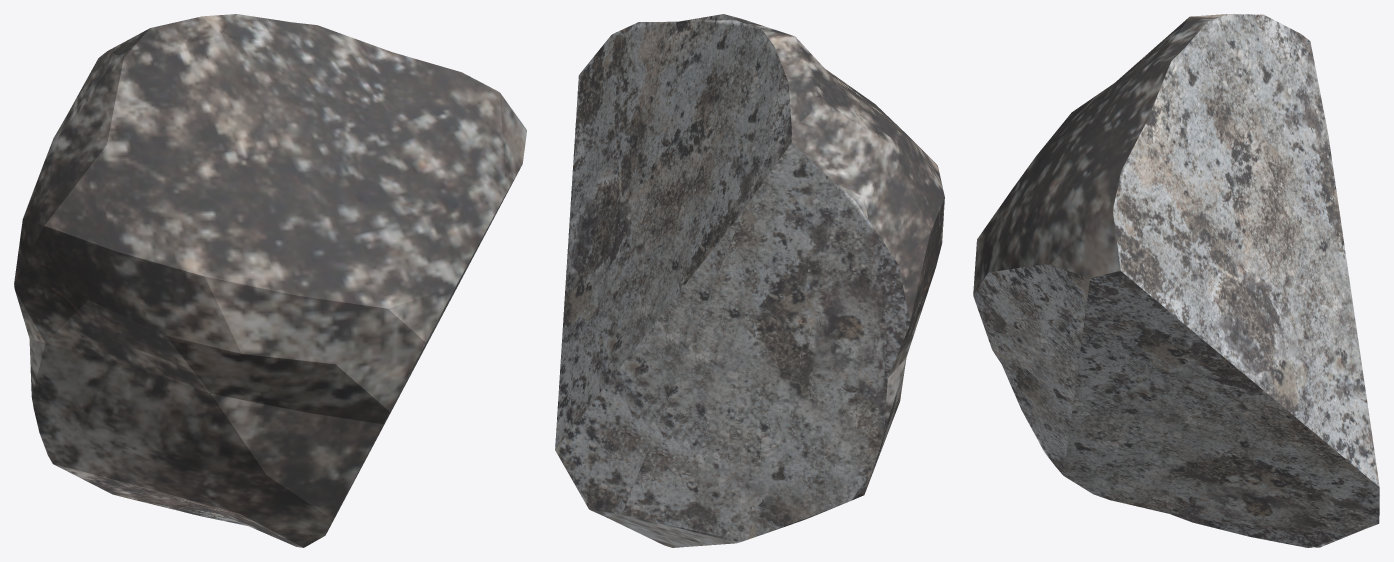
File: Asteroid_Medium_001_02_002.fbx
3 renders of one model, left to right at view 1: azimuth 30°, elevation 25°; view 2: azimuth 150°, elevation 25°; view 3: azimuth 270°, elevation 25°, orthographic. The views are drawn at different scales.
Visible parts, largest first — view 1: Asteroid_Medium_001_02_002; view 2: Asteroid_Medium_001_02_002; view 3: Asteroid_Medium_001_02_002.
Boxes of the visible parts, left/top/right/bottom form: Asteroid_Medium_001_02_002: left=14, top=14, right=526, bottom=547; Asteroid_Medium_001_02_002: left=555, top=14, right=944, bottom=547; Asteroid_Medium_001_02_002: left=973, top=14, right=1379, bottom=547.
Size of the model in its own units: 20.3 by 23.59 by 17.16.
